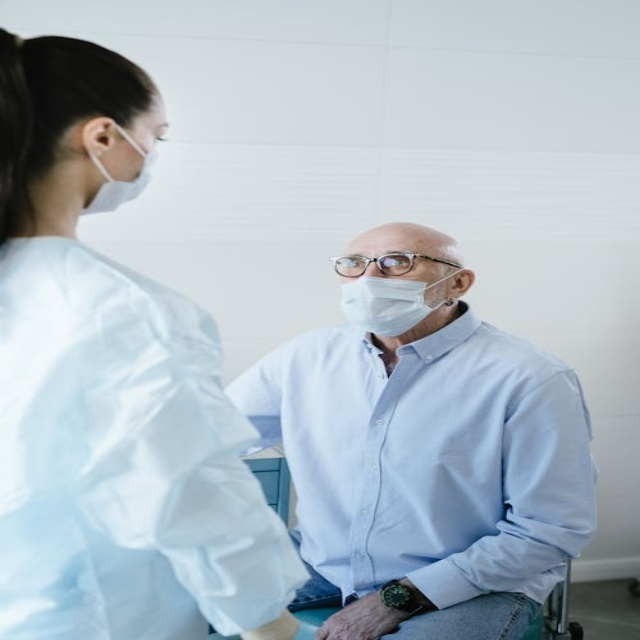Gafas: (329, 252, 462, 277)
Mascara: (339, 269, 456, 336), (82, 123, 160, 213)
Sin_gafas: (118, 104, 184, 148)
Sin_guantes: (316, 585, 424, 640)
